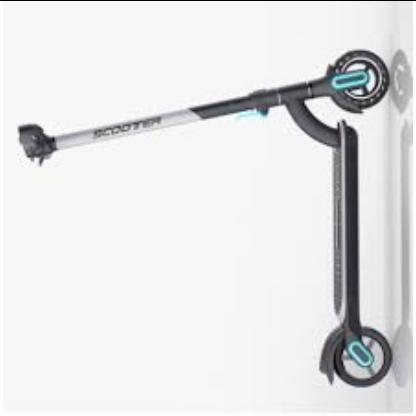bike: (12, 47, 396, 398)
